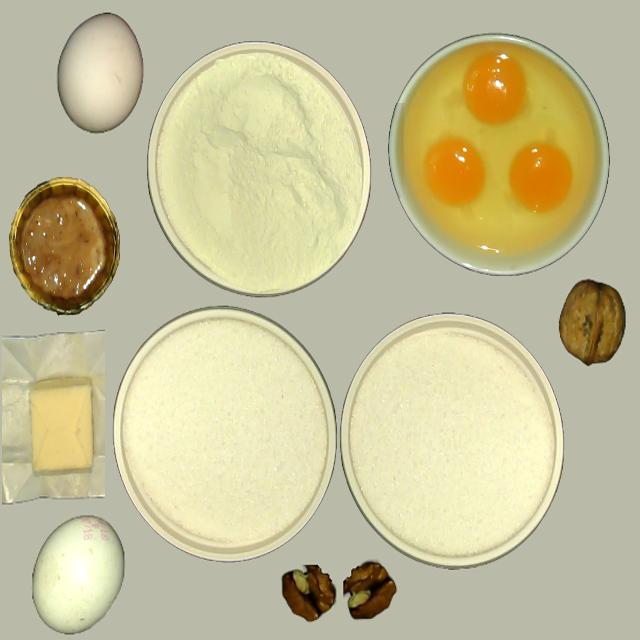Cocoa: (8, 176, 120, 315)
Egg: (402, 39, 597, 255)
Flour: (153, 49, 365, 295), (120, 316, 328, 548), (347, 326, 555, 558)
Walnut: (558, 278, 625, 365), (342, 560, 396, 619), (281, 563, 335, 621)
